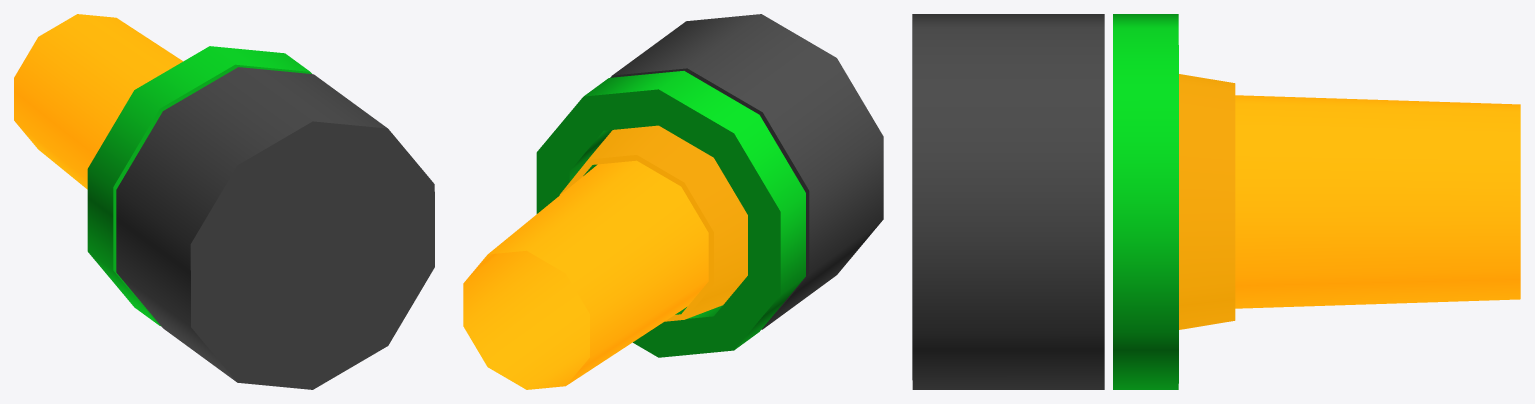
The model's file is boost.glb.
3 views of the same model, side by side, from view 1: azimuth 30°, elevation 25°; view 2: azimuth 150°, elevation 25°; view 3: azimuth 270°, elevation 25° (orthographic). The views are drawn at different scales.
Visible parts, largest first — view 1: boost.003, boost-part.011; view 2: boost.003, boost-part.011; view 3: boost.003, boost-part.011.
Part boxes in pixels (<box>): boost.003: <box>87,46,434,389</box>; boost-part.011: <box>14,14,182,189</box>; boost.003: <box>536,14,883,357</box>; boost-part.011: <box>463,160,708,389</box>; boost.003: <box>912,14,1235,389</box>; boost-part.011: <box>1235,95,1520,308</box>.
Size of the model in its own units: 0.1451 by 0.1525 by 0.2421.
